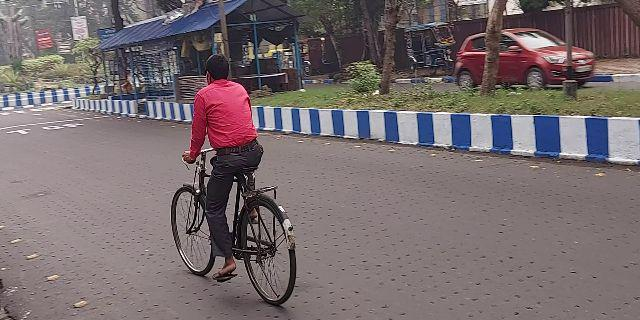Car: (461, 25, 595, 90)
Cycle: (165, 52, 302, 307)
